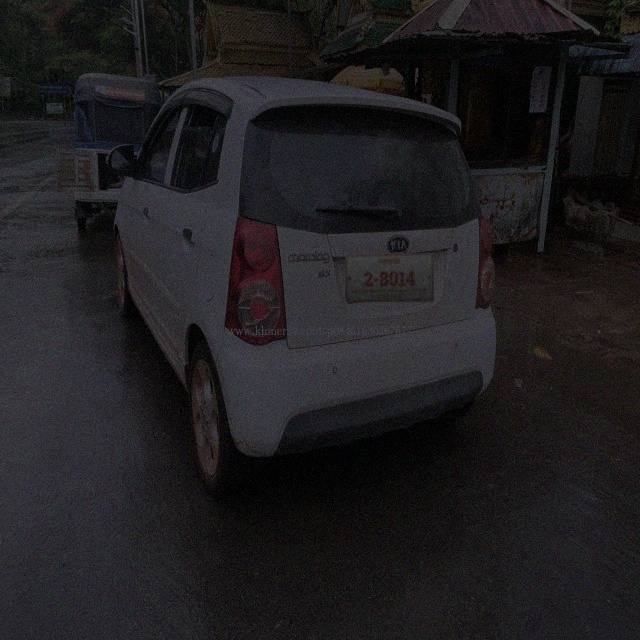Plate Number: (345, 253, 435, 302)
